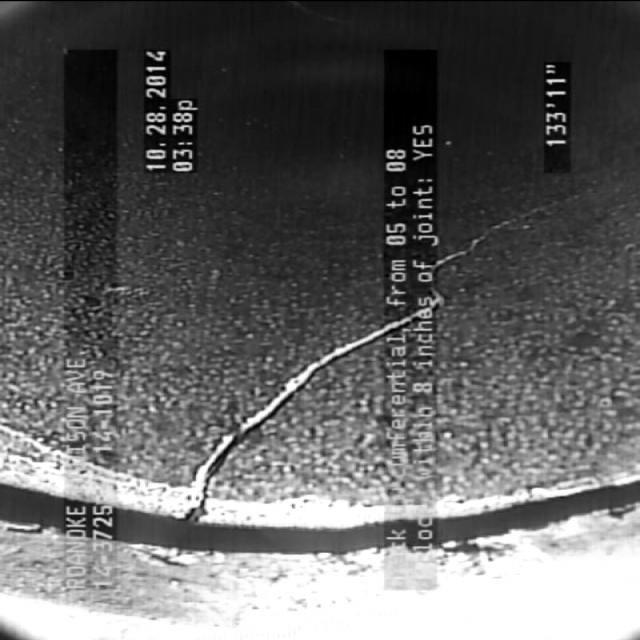Crack: (154, 300, 372, 549)
